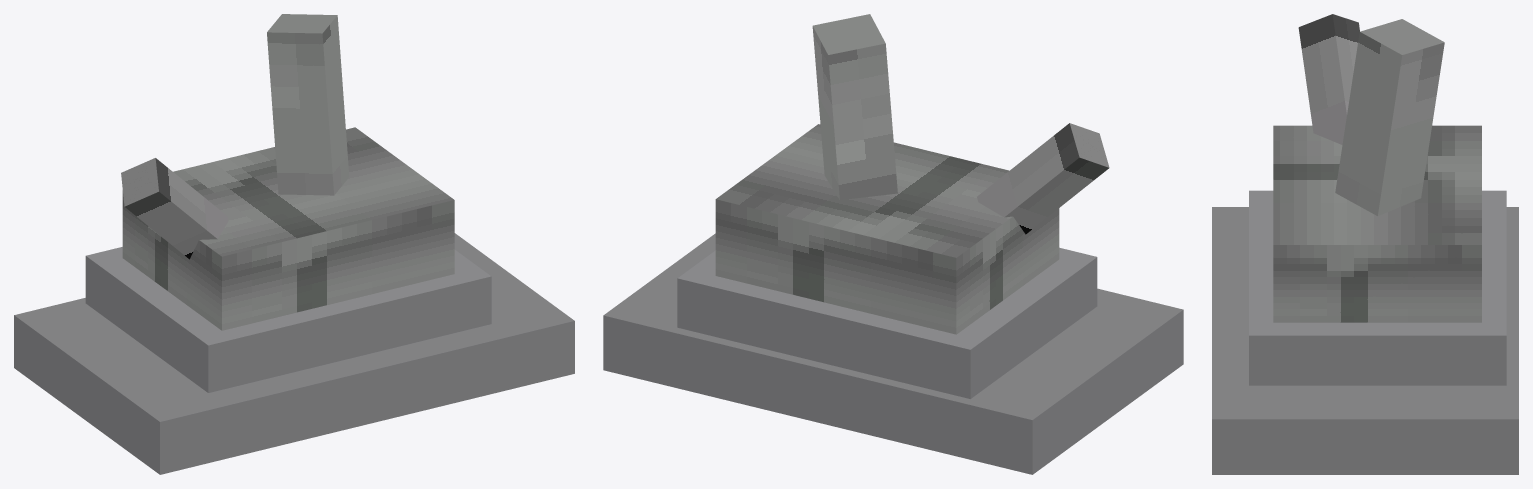
Rendered from Building_TrapIED_Deadlife.glb.
3 views of the same model, side by side, from view 1: azimuth 30°, elevation 25°; view 2: azimuth 150°, elevation 25°; view 3: azimuth 270°, elevation 25° (orthographic). The views are drawn at different scales.
Parts seen in each view (by area): view 1: TrapIED_Deadlife; view 2: TrapIED_Deadlife; view 3: TrapIED_Deadlife.
Boxes of the visible parts, x1,y1,x2,y2 form: TrapIED_Deadlife: (14, 14, 574, 474); TrapIED_Deadlife: (603, 14, 1183, 474); TrapIED_Deadlife: (1212, 14, 1518, 474).
Size of the model in its own units: 0.82 by 0.6296 by 0.5.
1 material, 1 textured.
